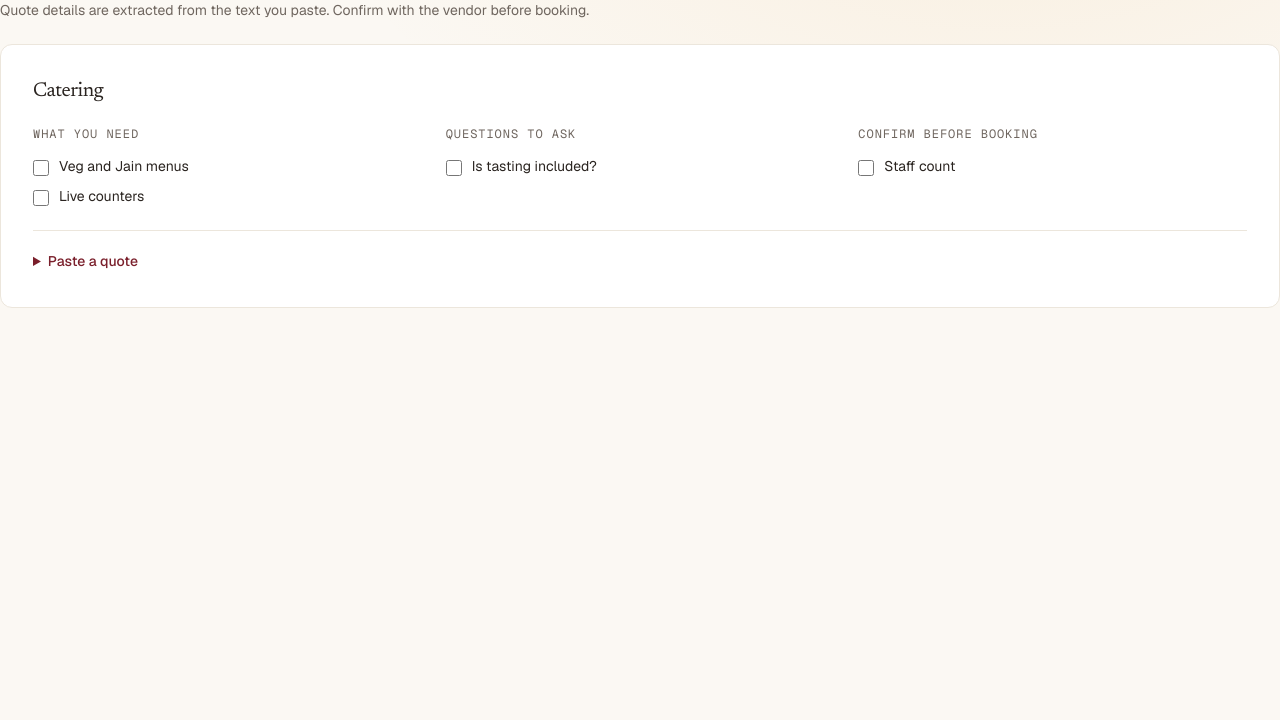
Test: VendorsTab quotes › extracts a pasted quote and adds it to the comparison
Click the heading "Paste a quote" at (93, 261), box [48,252,138,270]
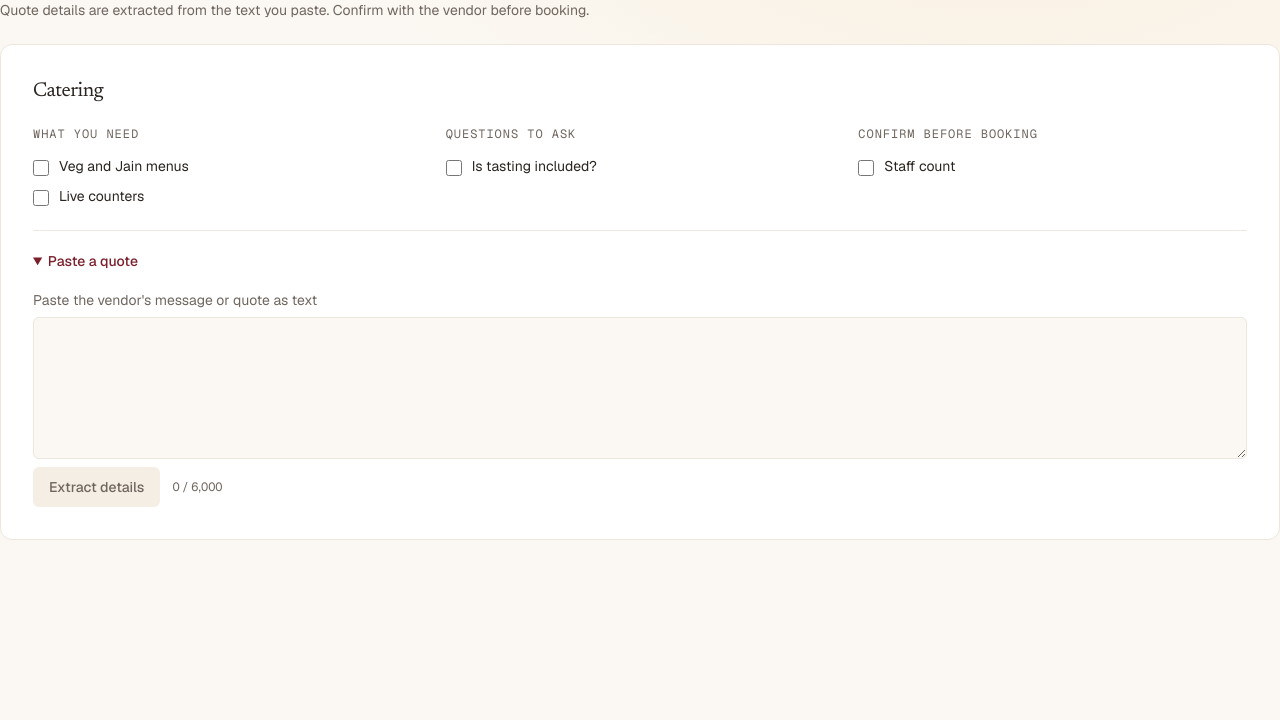
Result: the button "Extract details" is disabled at [33,467,160,507]
Type "Gupta Catering: 200 plates, 2.75 lakh all in" into the text box labelled "Paste the vendor's message or quote as text" at (640, 388), box [33,317,1247,459]
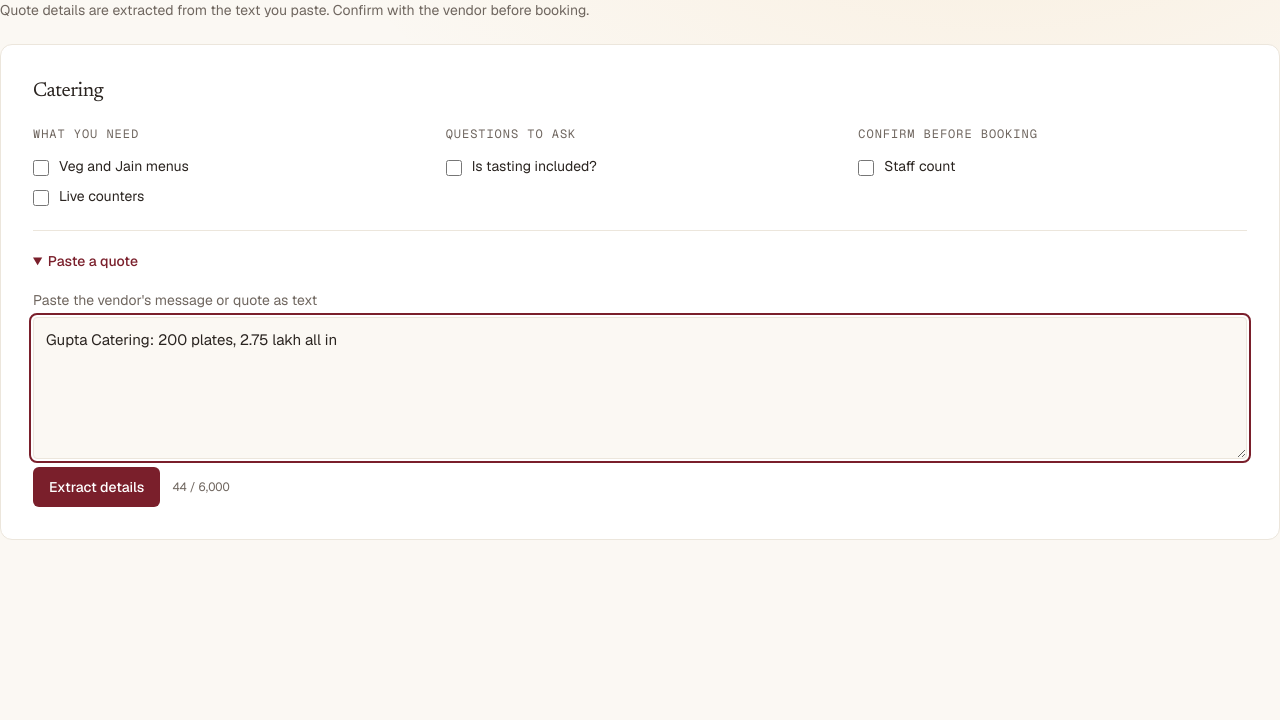
Result: the button "Extract details" is enabled
Click the button "Extract details" at (97, 487), box [33,467,160,507]
(page scrolled)
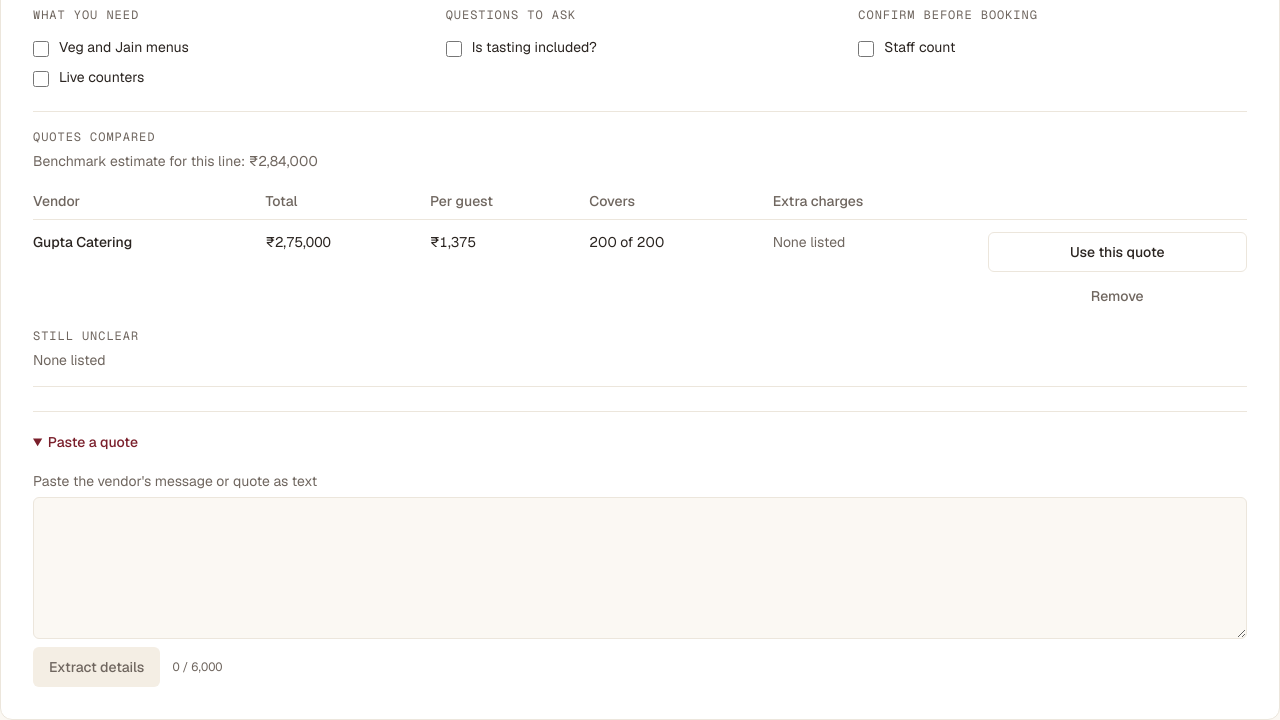
Result: the column heading "Gupta Catering" is shown at [33,220,265,328]
Result: the text box labelled "Paste the vendor's message or quote as text" is empty at [33,497,1247,639]
